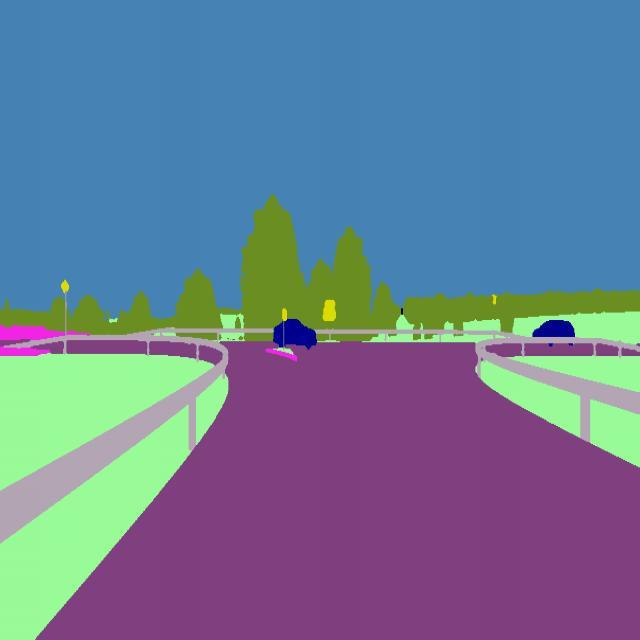safe: (268, 314, 320, 352), (532, 316, 576, 350)
